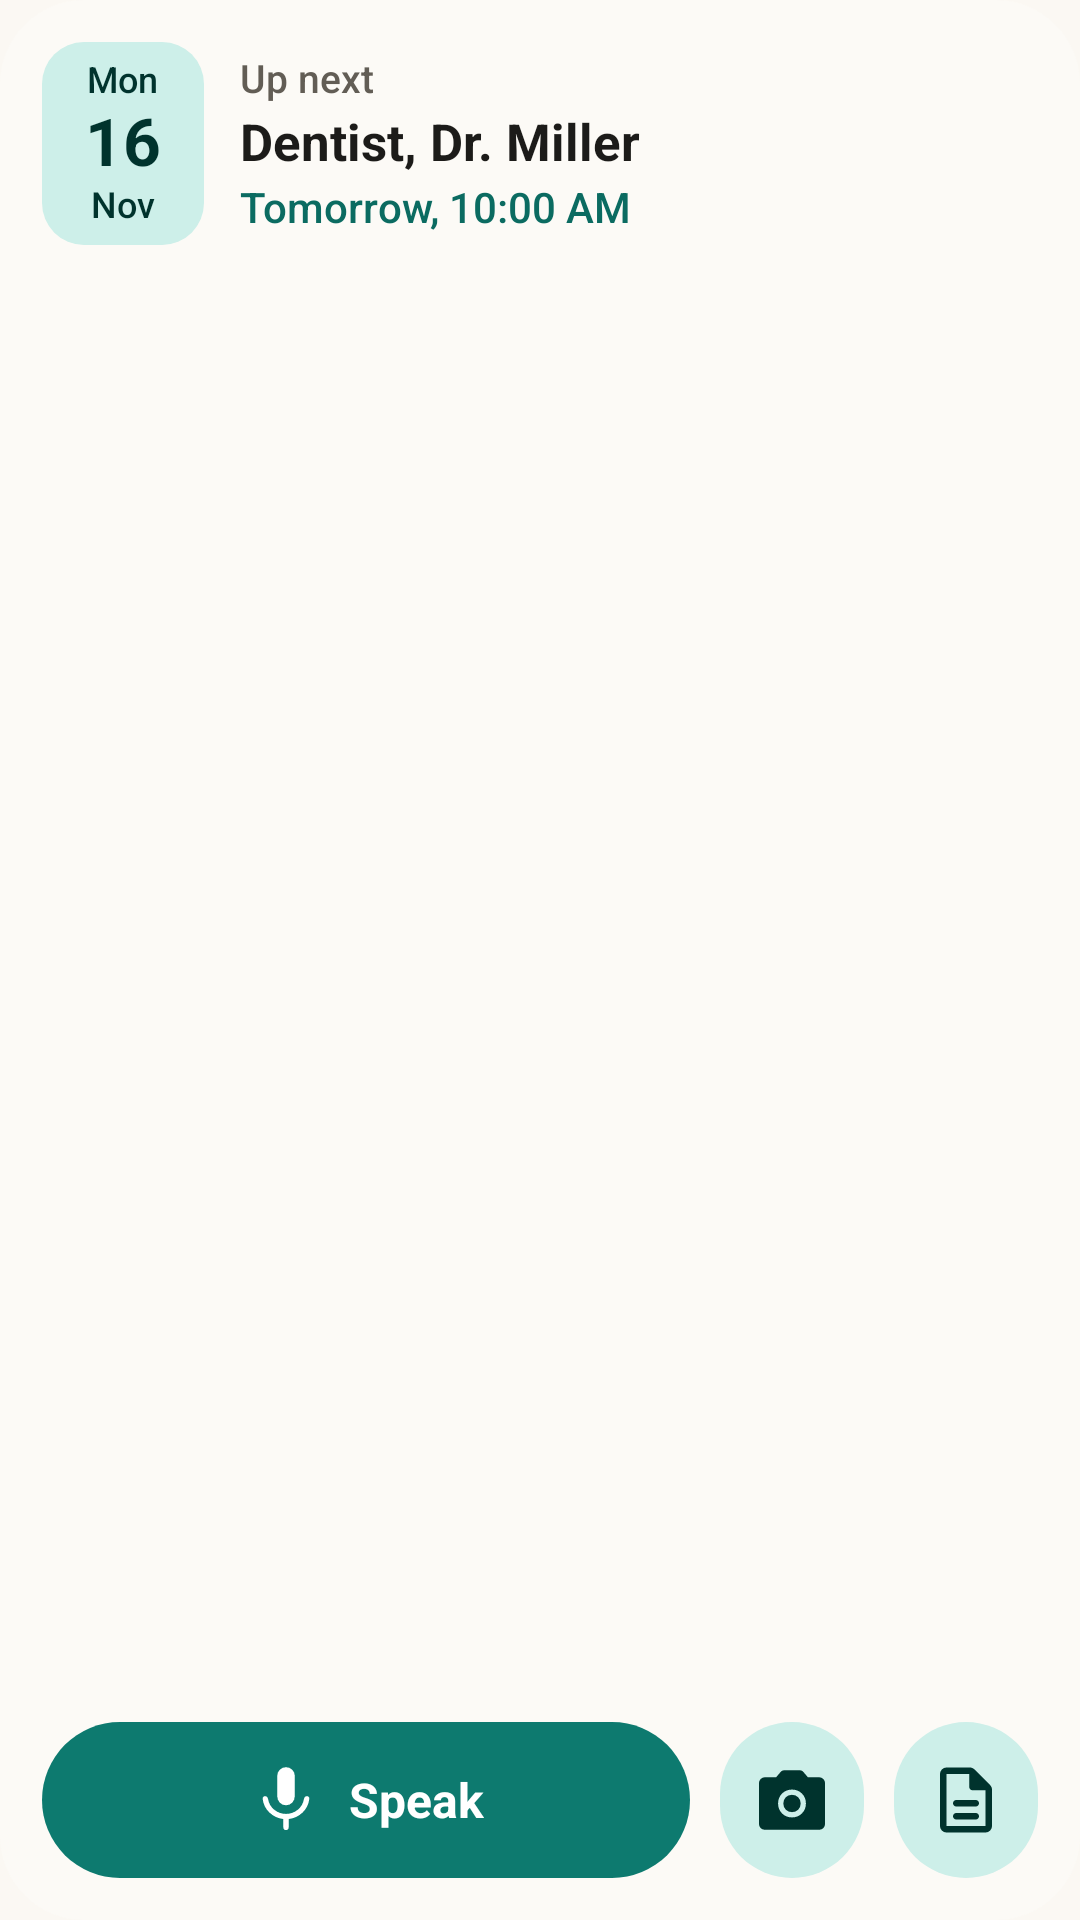

Icons on this 1080*1920 Android screen, each with its box as (x1, y1, x2, y2):
camera: (759, 1770, 825, 1830)
file: (940, 1767, 992, 1833)
mic: (262, 1767, 310, 1830)
